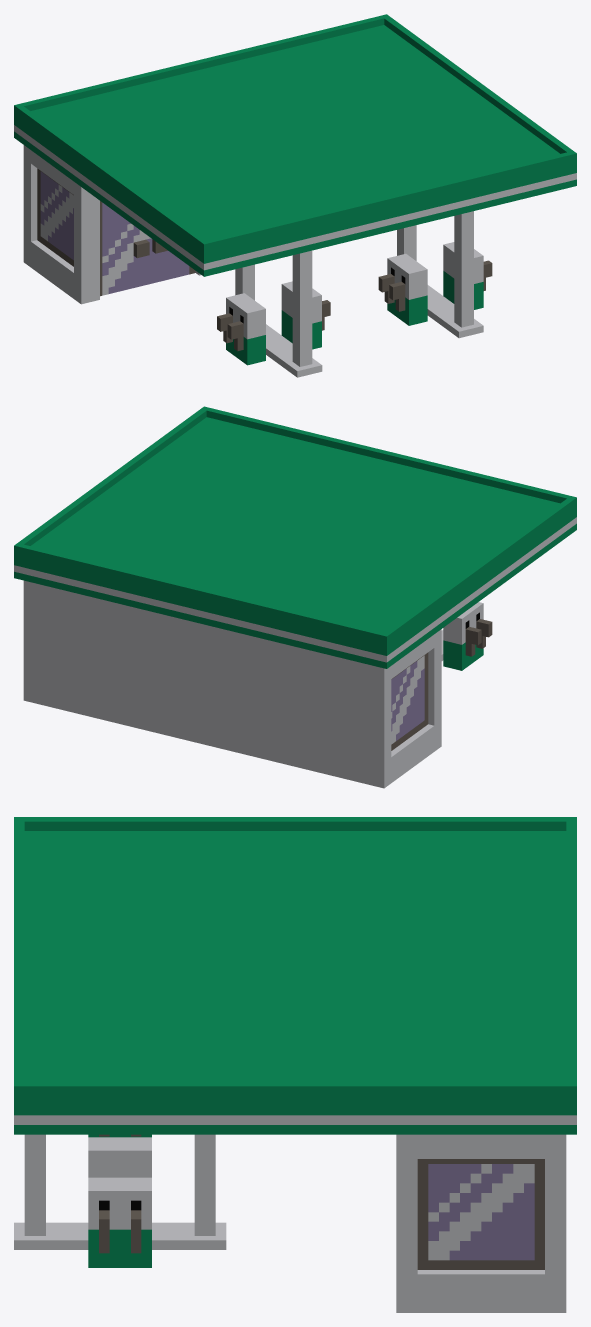
File: gas_station_b_b.obj
3 renders of one model, top to bottom at view 1: azimuth 30°, elevation 25°; view 2: azimuth 150°, elevation 25°; view 3: azimuth 270°, elevation 25°, orthographic. The views are drawn at different scales.
Bounding box in the file's own units: 6 × 2.4 × 5.3.
1 material, 1 textured.
